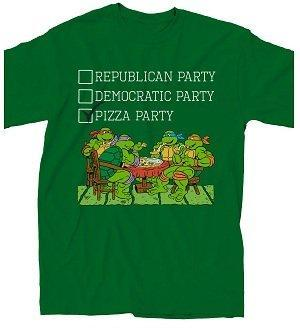T-shirt: (1, 1, 298, 323)
